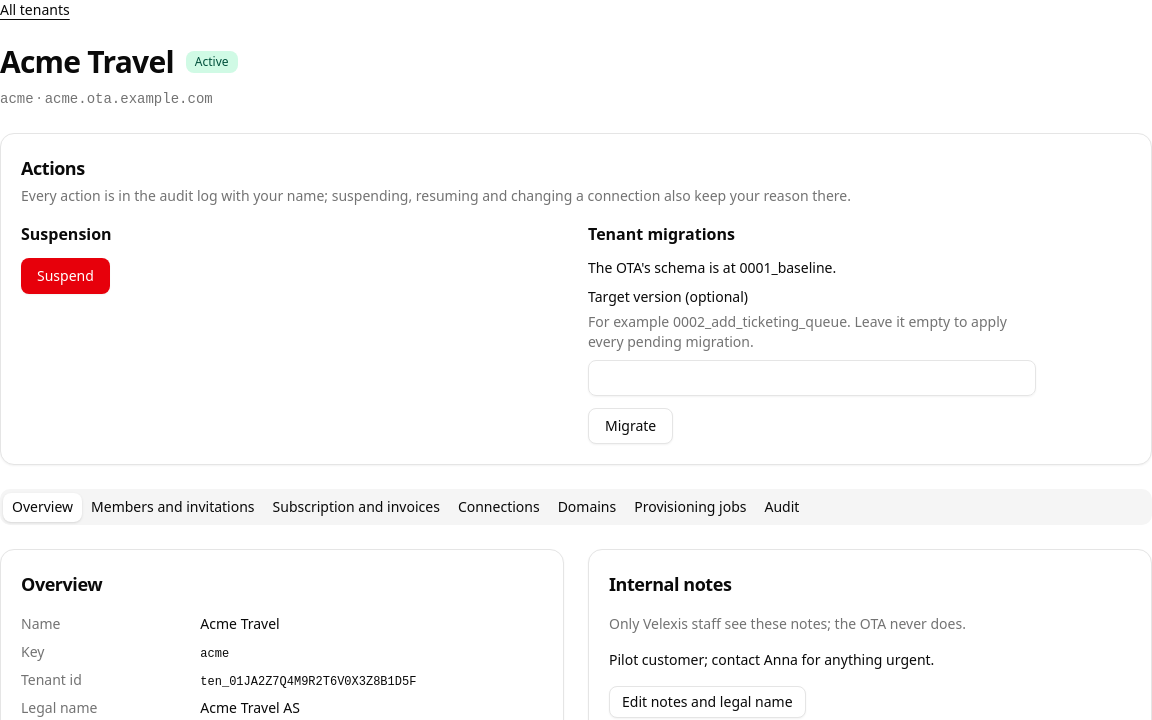
Scenario: suspend and resume (PADR-0014, PF-82) › asks for a step-up on REAUTH_REQUIRED and suspends again with the same reason after the code
Click the button "Suspend": (65, 276) [21, 258, 110, 294]
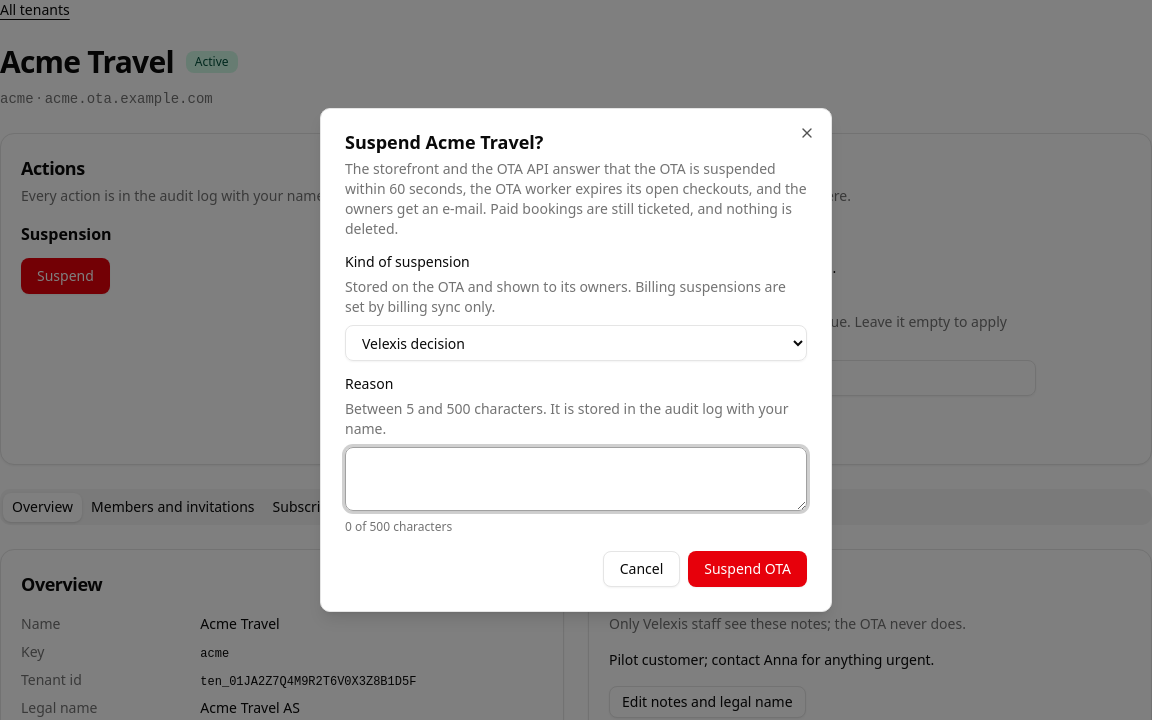
Select "The OTA asked for it" in the dropdown labelled "Kind of suspension": (576, 343) [345, 325, 807, 361]
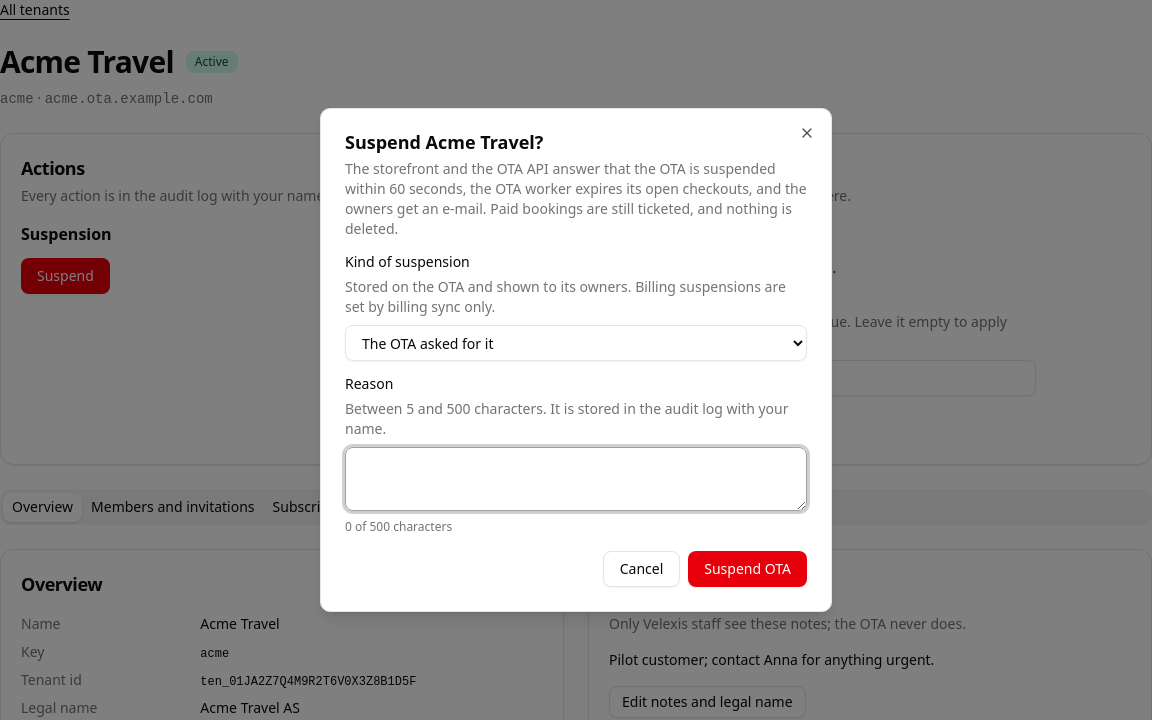
In the text box labelled "Reason": (576, 479) [345, 447, 807, 511], type "The OTA asked to pause its storefront."
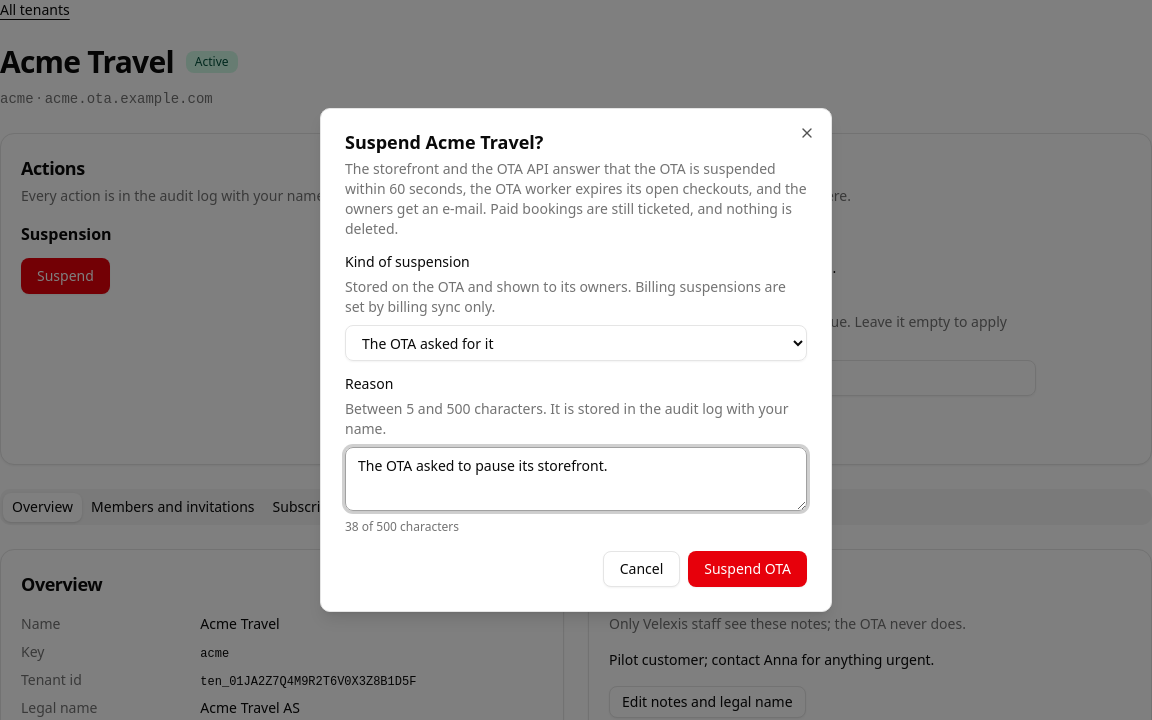
Submit the form named "Suspend OTA", box [345, 255, 807, 587]
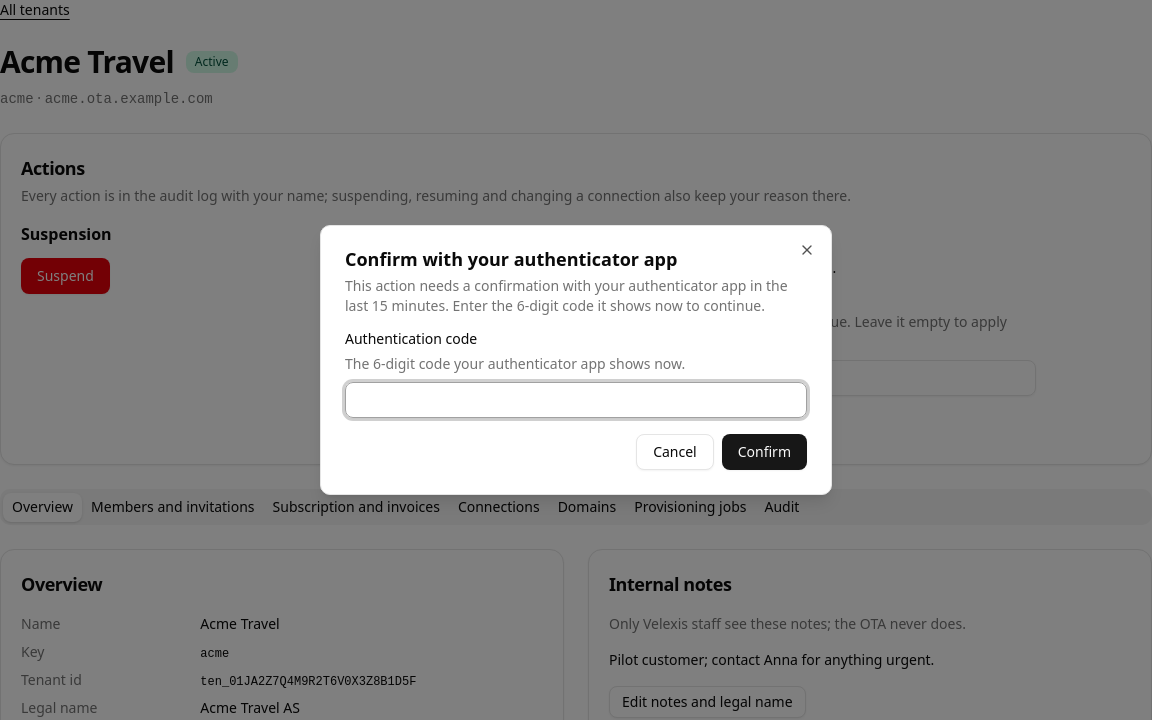
In the field labelled "Authentication code": (576, 400) [345, 382, 807, 418], type "492039"
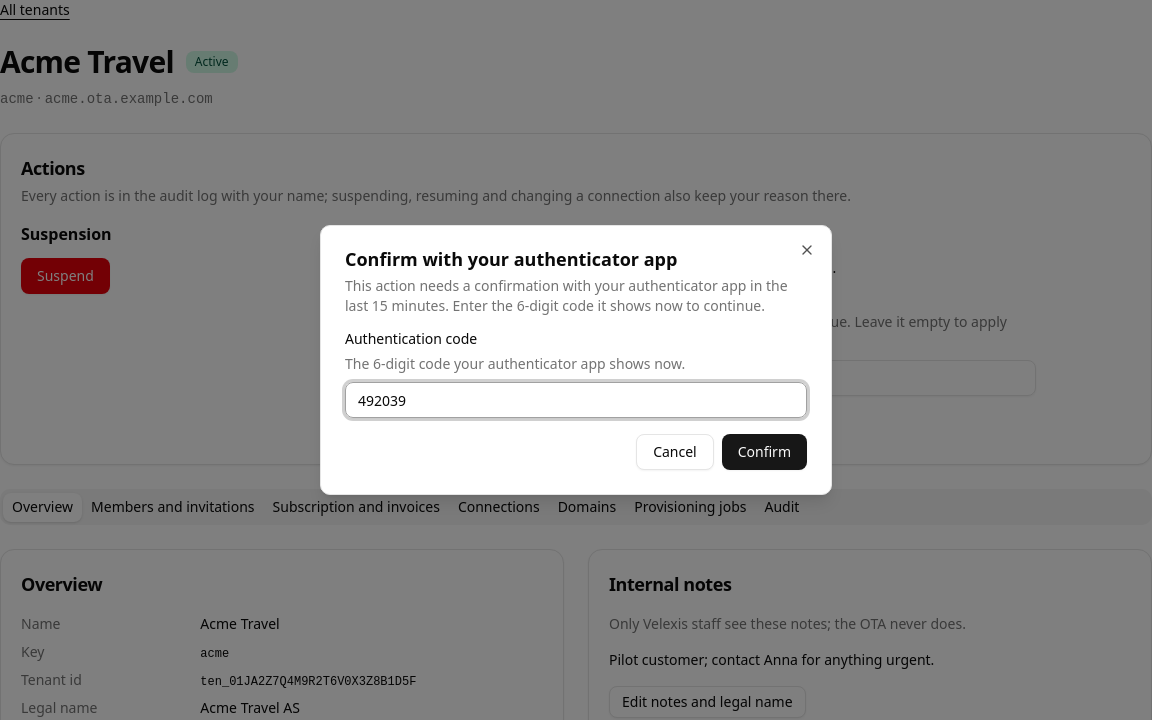
Submit the form named "Confirm", box [345, 332, 807, 470]
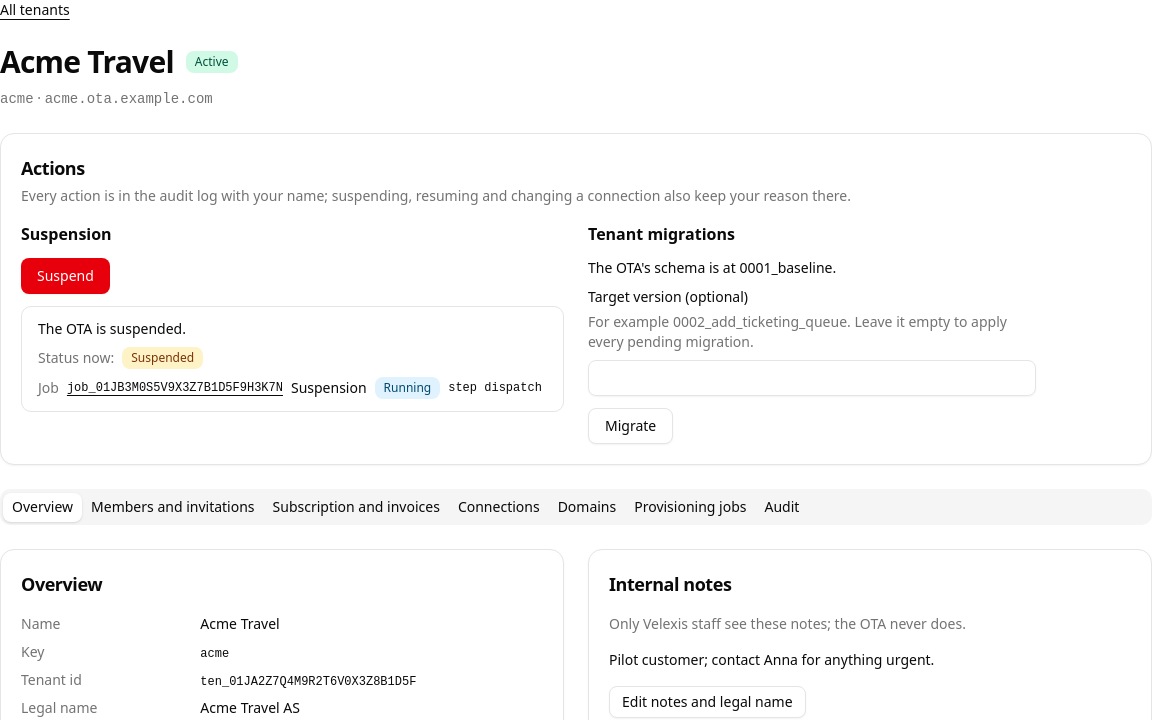
Expected: the dialog is gone
Expected: the text "The OTA is suspended." is shown, [38, 319, 186, 338]
